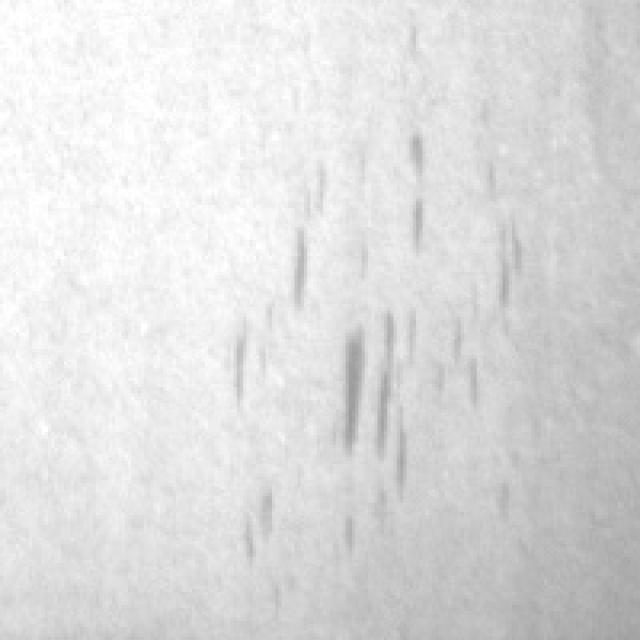inclusion: (307, 288, 435, 502), (388, 105, 438, 268)
